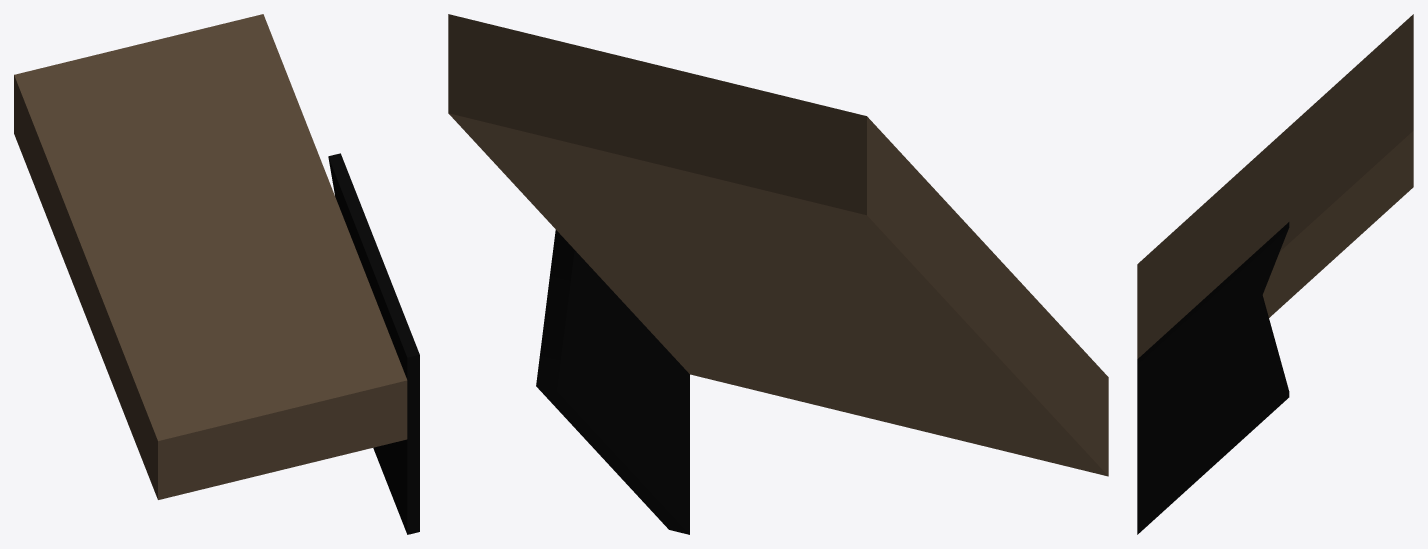
File: dach_ecke_r_kaputt.glb
The picture shows the model from 3 angles, left to right: view 1: azimuth 30°, elevation 25°; view 2: azimuth 150°, elevation 25°; view 3: azimuth 270°, elevation 25°; orthographic projection. The views are drawn at different scales.
Parts seen in each view (by area): view 1: dach_ecke_r_kaputt; view 2: dach_ecke_r_kaputt; view 3: dach_ecke_r_kaputt.
Part boxes in pixels (x1,y1,x2,y2): dach_ecke_r_kaputt: (14,14,419,534); dach_ecke_r_kaputt: (448,14,1108,534); dach_ecke_r_kaputt: (1137,14,1413,534).
Bounding box in the file's own units: 0.525 × 0.7963 × 0.5.
